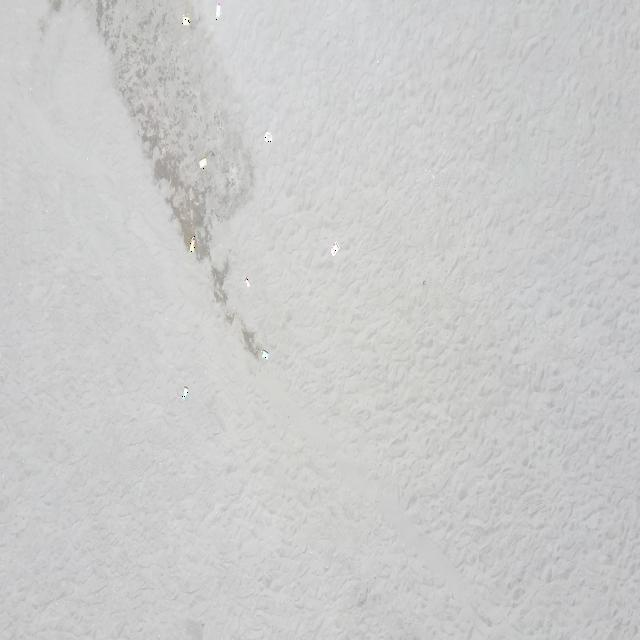Garbage: (188, 236, 195, 252), (331, 241, 339, 255), (199, 156, 207, 169), (260, 348, 268, 359), (181, 15, 190, 24), (216, 1, 220, 19), (181, 386, 187, 396), (264, 131, 270, 141), (244, 276, 249, 286)
